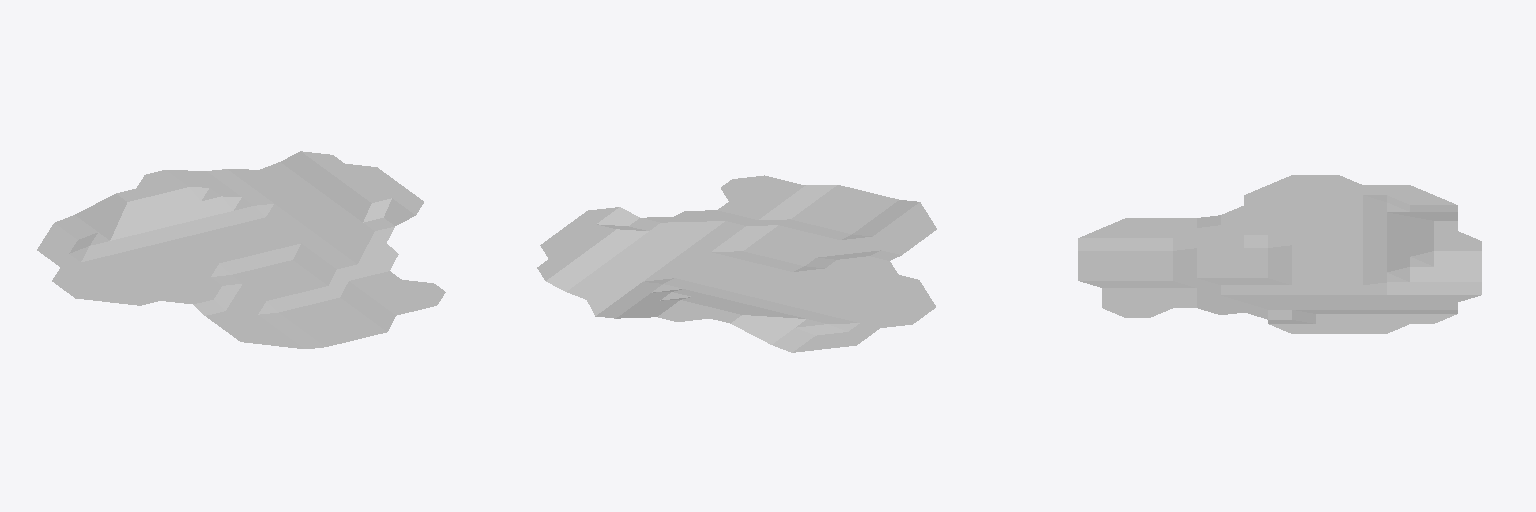
File: island2.obj
The picture shows the model from 3 angles: view 1: azimuth 30°, elevation 25°; view 2: azimuth 150°, elevation 25°; view 3: azimuth 270°, elevation 25°; orthographic projection.
Parts seen in each view (by area): view 1: plane; view 2: plane; view 3: plane.
Boxes of the visible parts, box(x1,y1,x2,y2) form: plane: box(37, 151, 445, 348); plane: box(537, 175, 936, 352); plane: box(1078, 175, 1481, 333).
Size of the model in its own units: 8 by 0.4375 by 8.